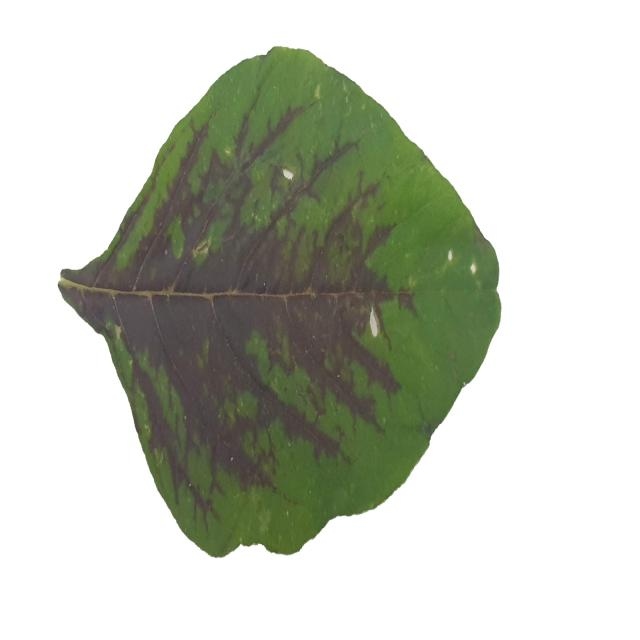Medicinal-Arive Dantu: (59, 42, 499, 560)
